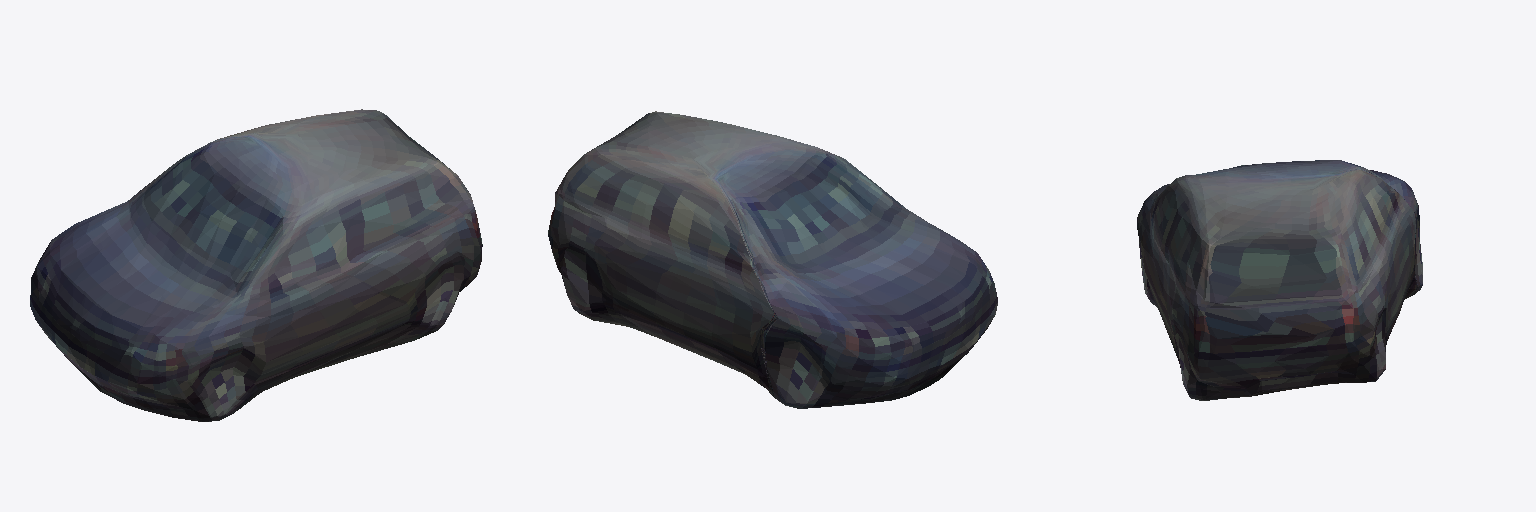
3 views of the same model, side by side, from view 1: azimuth 30°, elevation 25°; view 2: azimuth 150°, elevation 25°; view 3: azimuth 270°, elevation 25° (orthographic).
Size of the model in its own units: 1 by 0.4767 by 0.6496.
1 materials, 1 textured.